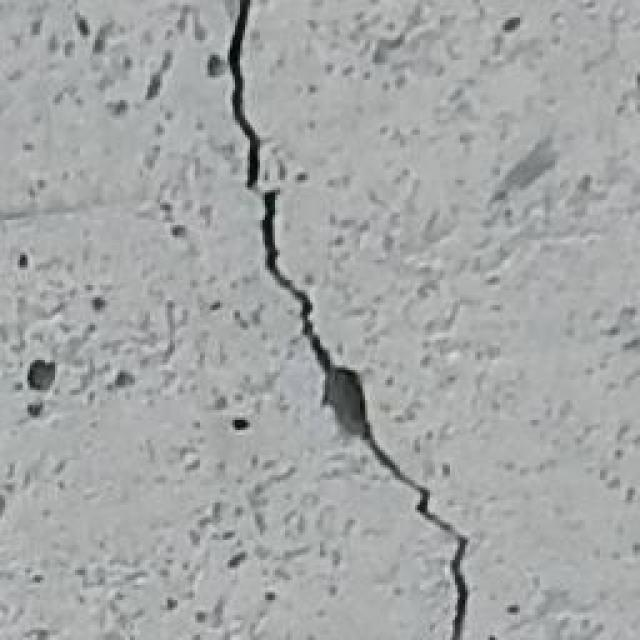concrete-crack: (226, 6, 481, 636)
